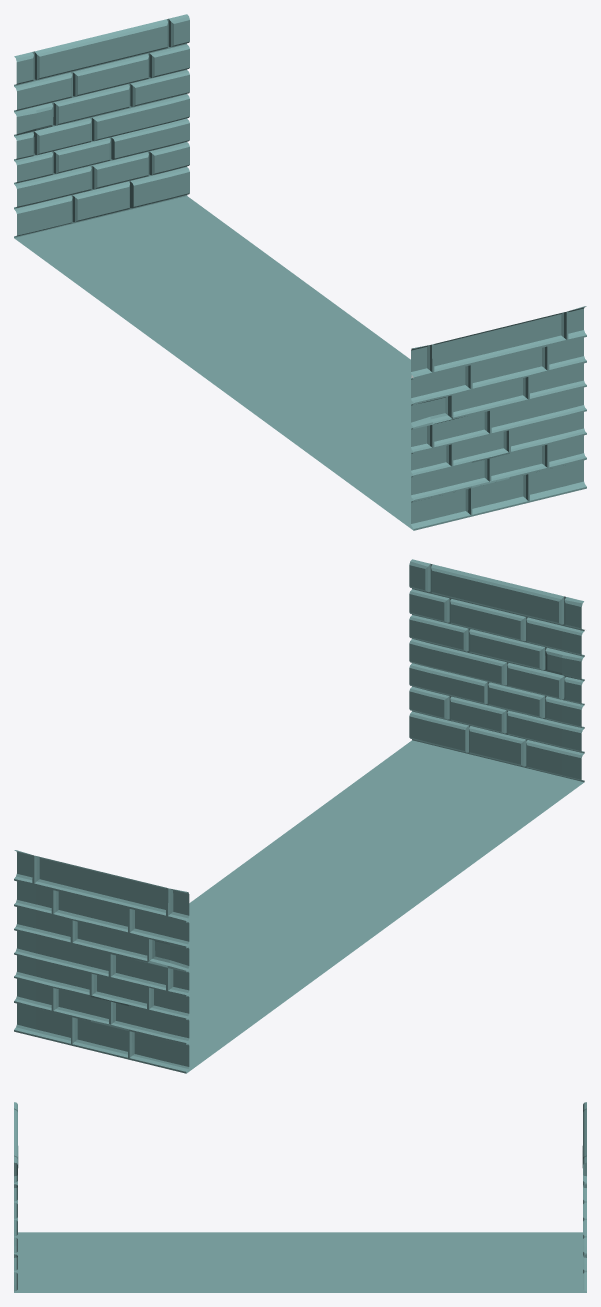
File: sm_tile_waterfalltile_top.fbx
3 views of the same model, one above another, from view 1: azimuth 30°, elevation 25°; view 2: azimuth 150°, elevation 25°; view 3: azimuth 270°, elevation 25° (orthographic). The views are drawn at different scales.
Visible parts, largest first — view 1: WitchGameWaterfallTiles_2_27_20:Waterfall_Channel; view 2: WitchGameWaterfallTiles_2_27_20:Waterfall_Channel; view 3: WitchGameWaterfallTiles_2_27_20:Waterfall_Channel.
Boxes of the visible parts, x1=… form: WitchGameWaterfallTiles_2_27_20:Waterfall_Channel: x1=14, y1=14, x2=586, y2=530; WitchGameWaterfallTiles_2_27_20:Waterfall_Channel: x1=14, y1=559, x2=584, y2=1073; WitchGameWaterfallTiles_2_27_20:Waterfall_Channel: x1=14, y1=1102, x2=586, y2=1292.
Size of the model in its own units: 2.03 by 2.01 by 8.
